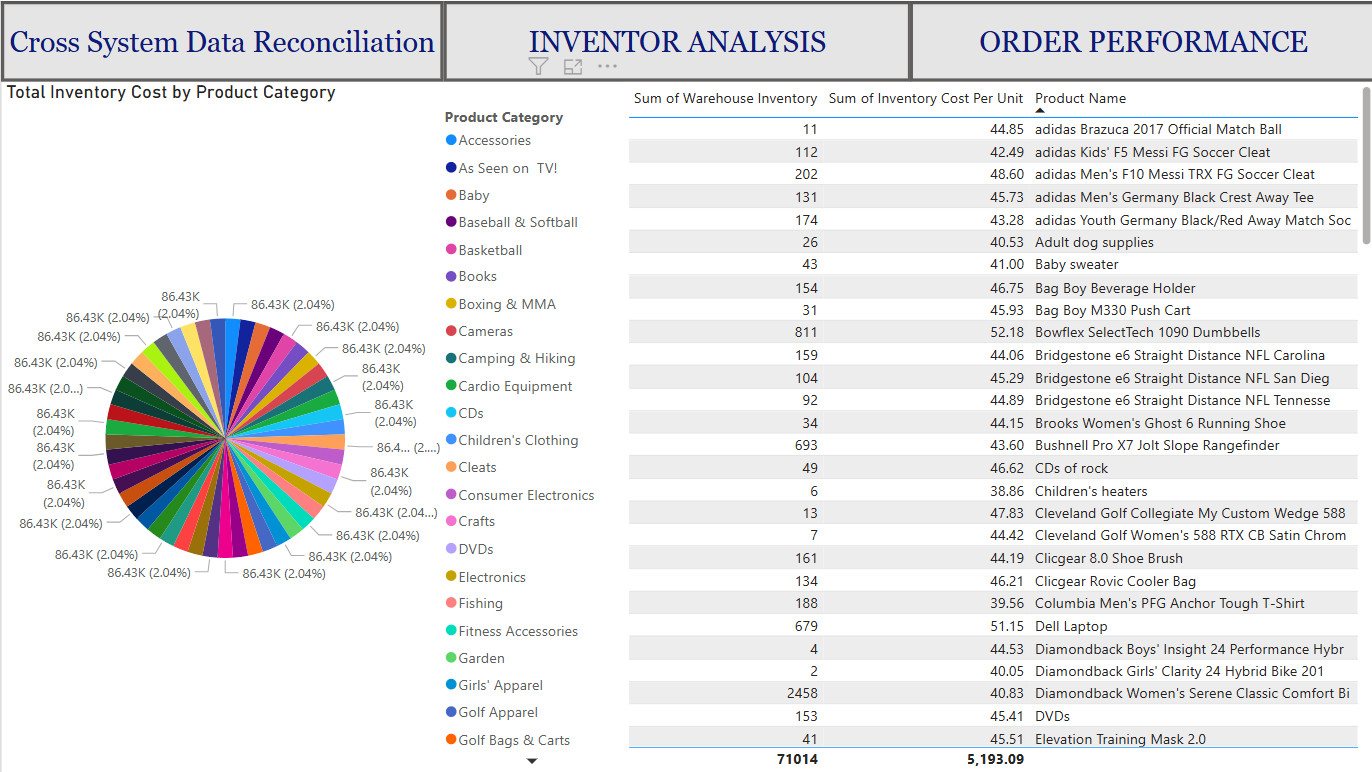

Layout of this report page (visuals, bound fields, positions):
{"tool":"powerbi","page":{"name":"INVENTORY ANALYSIS","canvas":[1280,720],"ordinal":1},"visuals":[{"type":"textbox","box":[105,0,13.3,50],"z":1000},{"type":"pieChart","fields":{"Y":["Orders.Total Inventory Cost"],"Category":["Orders.Product Category"]},"box":[0,74.3,578.6,645.7],"z":2000},{"type":"tableEx","fields":{"Values":["Sum(inventory. Warehouse Inventory )","Sum(inventory.Inventory Cost Per Unit)","inventory.Product Name"]},"box":[578.3,75,701.7,645],"z":3000},{"type":"actionButton","box":[411.7,0,435,75],"z":3002},{"type":"actionButton","box":[845,0,435,75],"z":3003},{"type":"actionButton","box":[0,0,411.7,75],"z":3004}]}

Visuals, with their boxes in screenshot pixels (x1, y1, x2, y2), scaled from the page's 1280x720 canvas onto the 1372x772 screenshot:
textbox: <region>113, 0, 127, 54</region>
pieChart - Orders.Total Inventory Cost x Orders.Product Category: <region>0, 80, 620, 771</region>
tableEx - Sum(inventory. Warehouse Inventory ) x Sum(inventory.Inventory Cost Per Unit): <region>620, 80, 1371, 771</region>
actionButton: <region>441, 0, 908, 80</region>
actionButton: <region>906, 0, 1371, 80</region>
actionButton: <region>0, 0, 441, 80</region>
